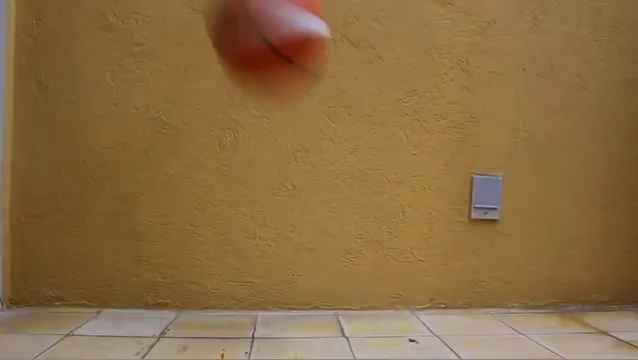ball: (203, 2, 333, 105)
